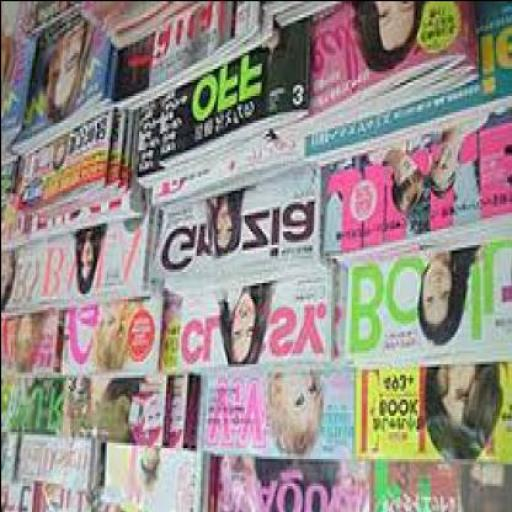paper: (303, 2, 511, 168), (318, 125, 510, 274), (276, 2, 476, 138), (159, 24, 305, 182), (153, 171, 318, 295), (345, 249, 510, 371), (173, 268, 341, 379), (111, 2, 271, 111), (150, 106, 304, 214), (353, 366, 510, 460), (190, 374, 353, 458), (10, 24, 112, 157), (13, 120, 132, 214), (40, 208, 152, 304), (57, 298, 173, 381), (61, 380, 186, 450), (204, 460, 367, 511), (14, 185, 142, 241), (100, 455, 206, 511), (107, 2, 213, 52), (366, 463, 459, 511), (13, 441, 94, 493), (1, 316, 62, 377), (2, 377, 60, 433), (1, 242, 47, 312), (18, 3, 84, 38), (136, 110, 157, 184)
